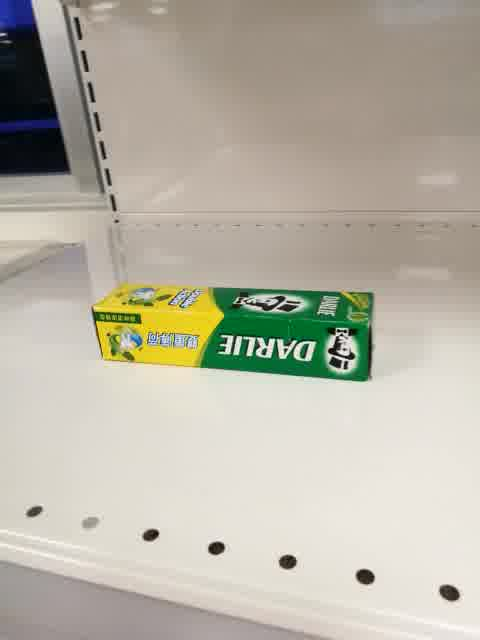toothpaste: (92, 282, 374, 381)
